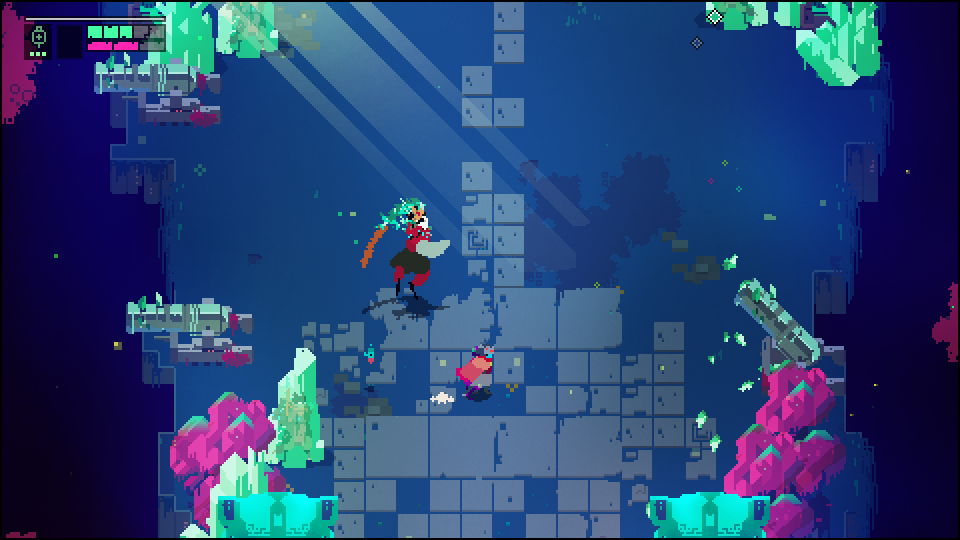hanged_man: (367, 194, 454, 303)
player: (455, 338, 497, 394)
